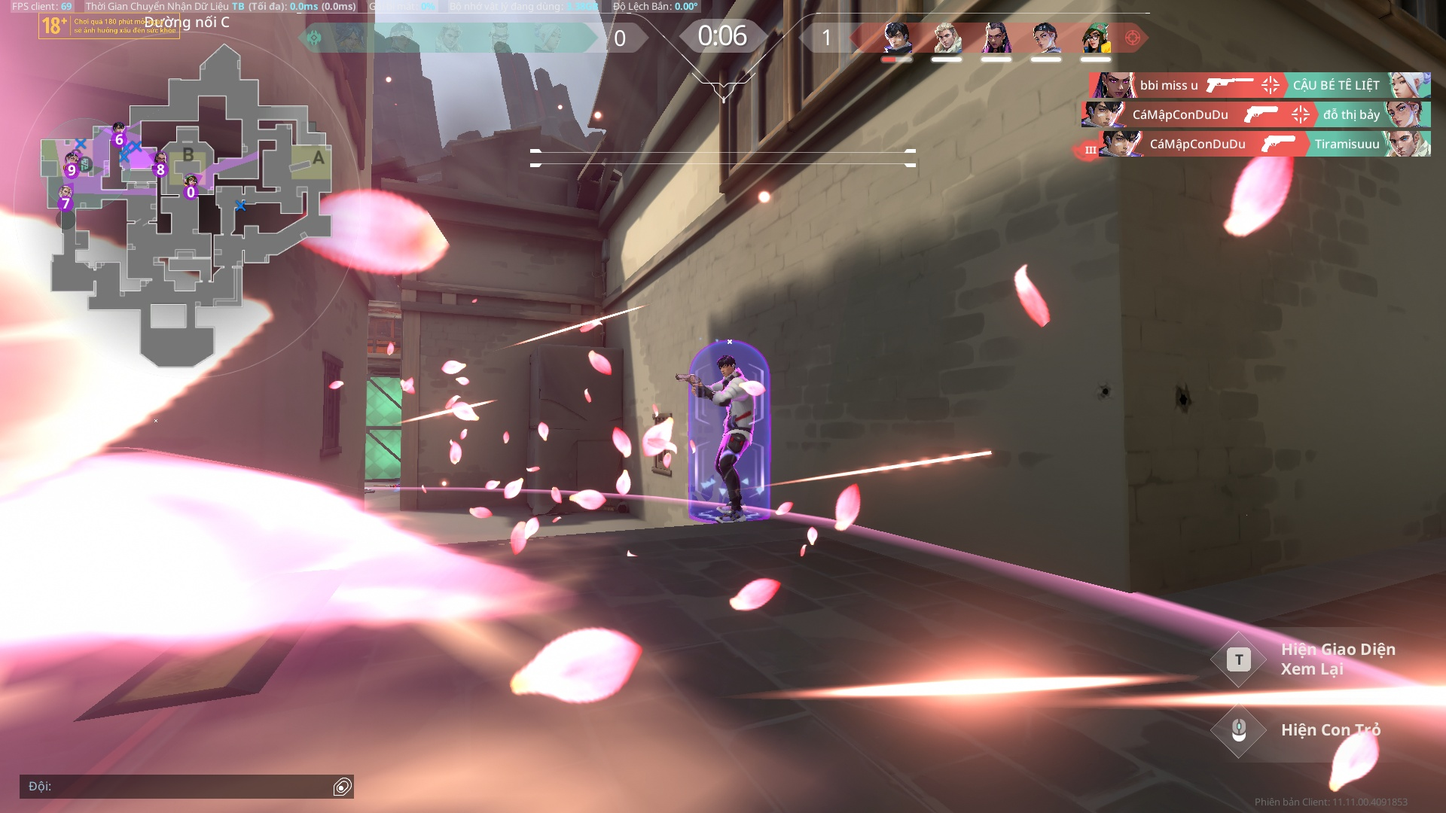body: (721, 374, 758, 428)
head: (717, 355, 740, 376)
